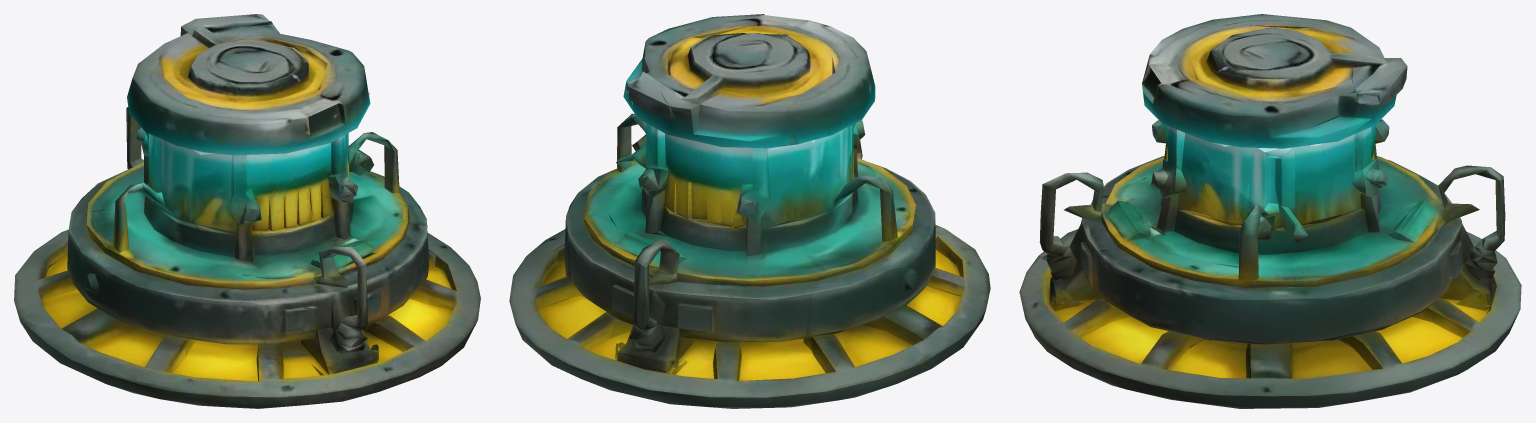
File: subDock.glb
3 renders of one model, left to right at view 1: azimuth 30°, elevation 25°; view 2: azimuth 150°, elevation 25°; view 3: azimuth 270°, elevation 25°, orthographic. The views are drawn at different scales.
Parts seen in each view (by area): view 1: model; view 2: model; view 3: model.
Part boxes in pixels (x1,y1,x2,y2): model: (14, 14, 480, 408); model: (509, 14, 990, 408); model: (1019, 14, 1521, 408).
Bounding box in the file's own units: 1.83 × 1.09 × 1.9.
Materials: 1 (1 with a texture image).
